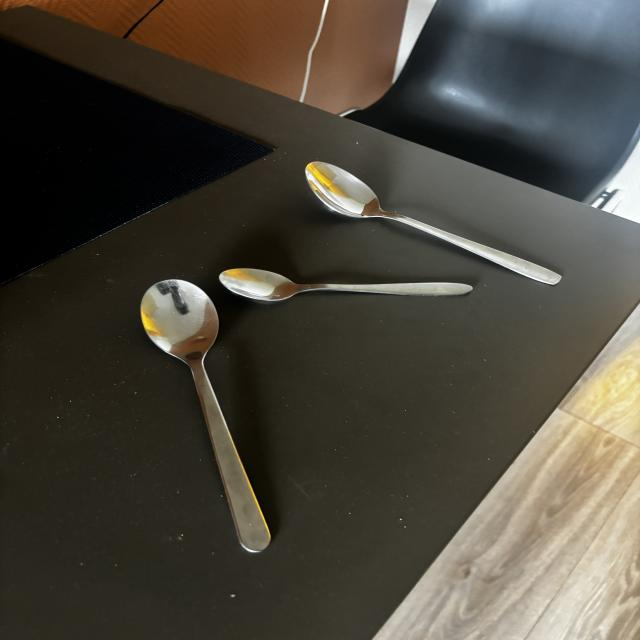spoon: (137, 279, 274, 558), (305, 163, 561, 286), (217, 269, 475, 306)
